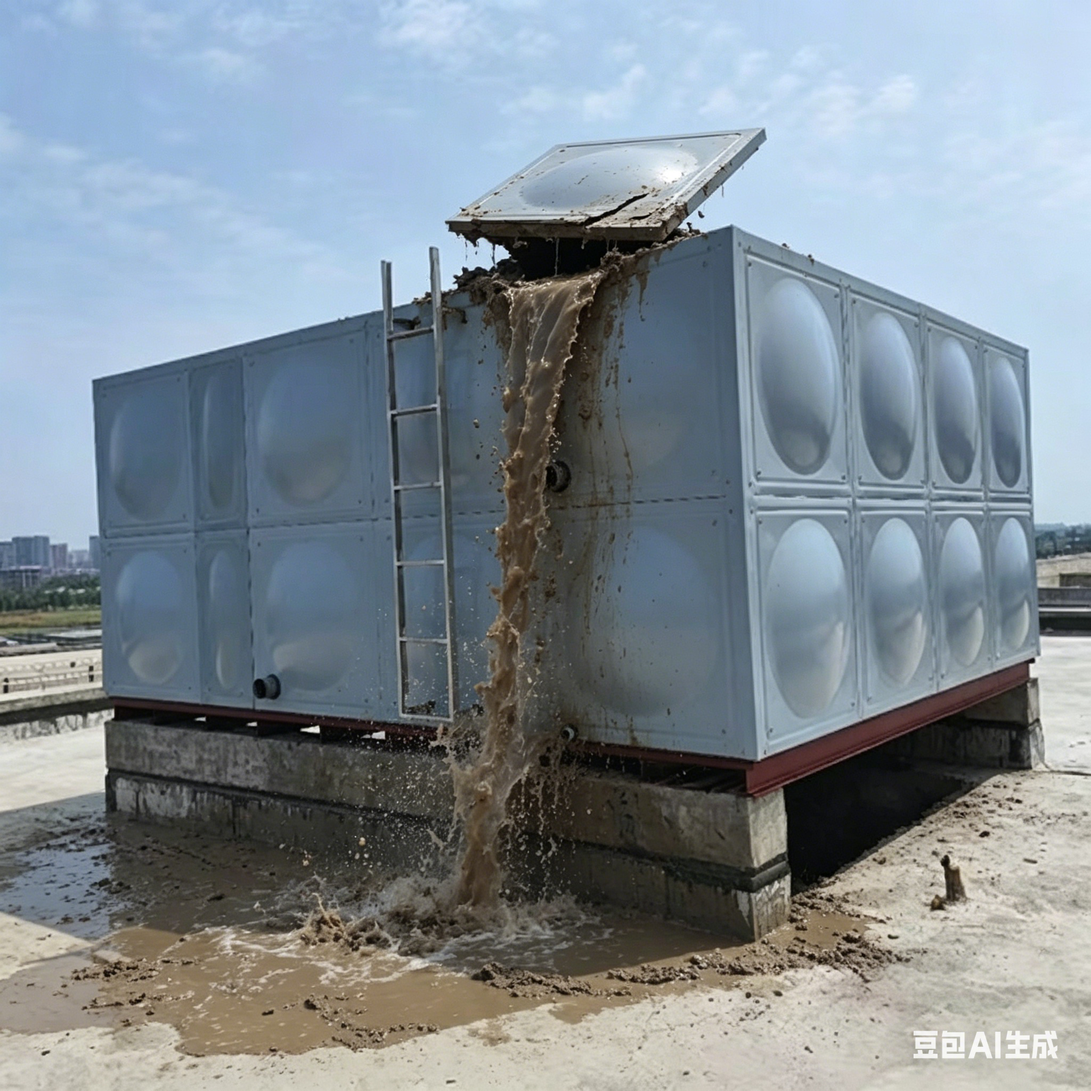Leakage: (433, 223, 656, 1007), (28, 824, 431, 1071), (660, 886, 915, 1003)
